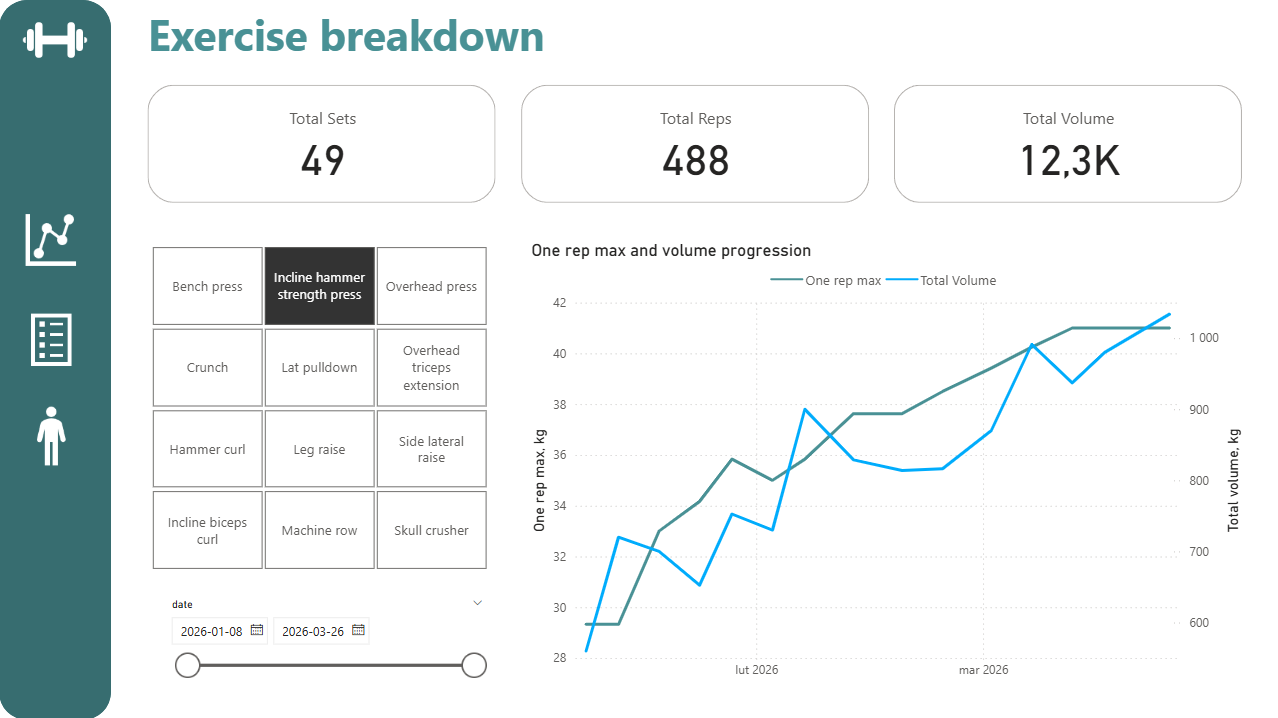

The dashboard page shown, as its layout file describes it:
{"tool":"powerbi","page":{"name":"Exercise breakdown","canvas":[1280,720],"ordinal":1},"visuals":[{"type":"cardVisual","fields":{"Data":["sets_log.Total Sets","sets_log.Total Reps","sets_log.Total Volume"]},"box":[144,80,1104,128],"z":0},{"type":"slicer","fields":{"Values":["exercise_dict.exercise_name"]},"box":[128,240,384,336],"z":1000},{"type":"lineChart","title":"One rep max and volume progression","fields":{"Category":["sessions.date.Variation.Date Hierarchy.Year"],"Y2":["sets_log.Total Volume"],"Y":["sets_log.One rep max"]},"box":[528,240,720,448],"z":2000},{"type":"shape","box":[0,0,112,720],"z":3000},{"type":"image","box":[0,0,112,80],"z":4000},{"type":"slicer","fields":{"Values":["sessions.date"]},"box":[160,592,336,112],"z":5000},{"type":"image","box":[8,200,88,80],"z":6000},{"type":"image","box":[16,304,72,72],"z":7000},{"type":"image","box":[16,400,72,72],"z":8000},{"type":"textbox","box":[144,0,448,80],"z":9000}]}

Visuals, with their boxes in screenshot pixels (x1, y1, x2, y2), scaled from the page's 1280x720 canvas onto the 1278x718 screenshot:
cardVisual - sets_log.Total Sets x sets_log.Total Reps: 144 80 1246 207
slicer - exercise_dict.exercise_name: 128 239 511 574
"One rep max and volume progression" lineChart: 527 239 1246 686
shape: 0 0 112 717
image: 0 0 112 80
slicer - sessions.date: 160 590 495 702
image: 8 199 96 279
image: 16 303 88 375
image: 16 399 88 471
textbox: 144 0 591 80
